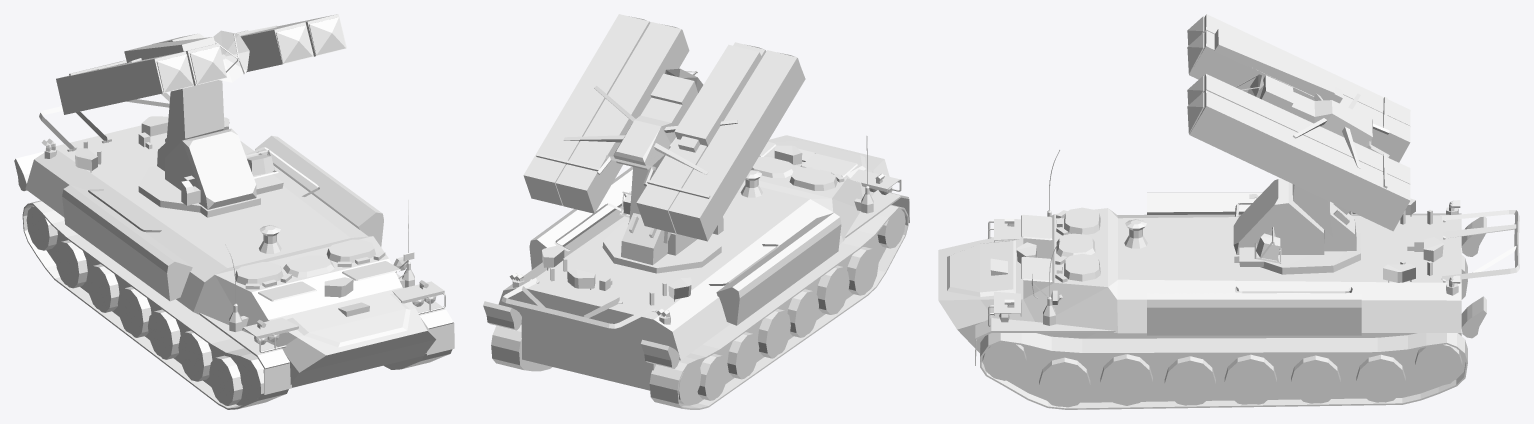
Rendered from BH_Vehicle_9k35Center.fbx.
3 views of the same model, side by side, from view 1: azimuth 30°, elevation 25°; view 2: azimuth 150°, elevation 25°; view 3: azimuth 270°, elevation 25° (orthographic). The views are drawn at different scales.
Visible parts, largest first — view 1: Body, Wheel_rotate, Gun, Turret, Gun1, Turret1, Wheel; view 2: Body, Gun, Wheel_rotate, Turret, Wheel, Turret1; view 3: Body, Gun, Wheel_rotate, Wheel, Turret, Gun1, Turret1.
Boxes of the visible parts, bbox=[...] form: Body: bbox=[14, 93, 454, 394]; Wheel_rotate: bbox=[22, 200, 452, 409]; Gun: bbox=[56, 14, 346, 114]; Turret: bbox=[138, 128, 283, 217]; Gun1: bbox=[156, 17, 345, 92]; Turret1: bbox=[165, 80, 224, 156]; Wheel: bbox=[43, 220, 423, 405]; Body: bbox=[483, 135, 909, 390]; Gun: bbox=[523, 14, 805, 241]; Wheel_rotate: bbox=[491, 205, 908, 409]; Turret: bbox=[602, 191, 723, 273]; Wheel: bbox=[519, 221, 890, 405]; Turret1: bbox=[629, 137, 676, 243]; Body: bbox=[938, 150, 1519, 365]; Gun: bbox=[1189, 14, 1410, 231]; Wheel_rotate: bbox=[980, 255, 1467, 409]; Wheel: bbox=[982, 269, 1467, 402]; Turret: bbox=[1233, 178, 1360, 274]; Gun1: bbox=[1187, 16, 1204, 133]; Turret1: bbox=[1292, 184, 1333, 237].
Size of the model in its own units: 315 by 411 by 713.
